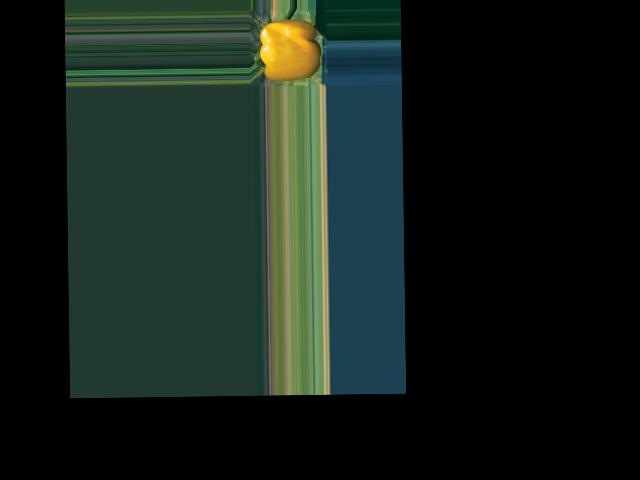bell_pepper: (253, 14, 322, 85)
